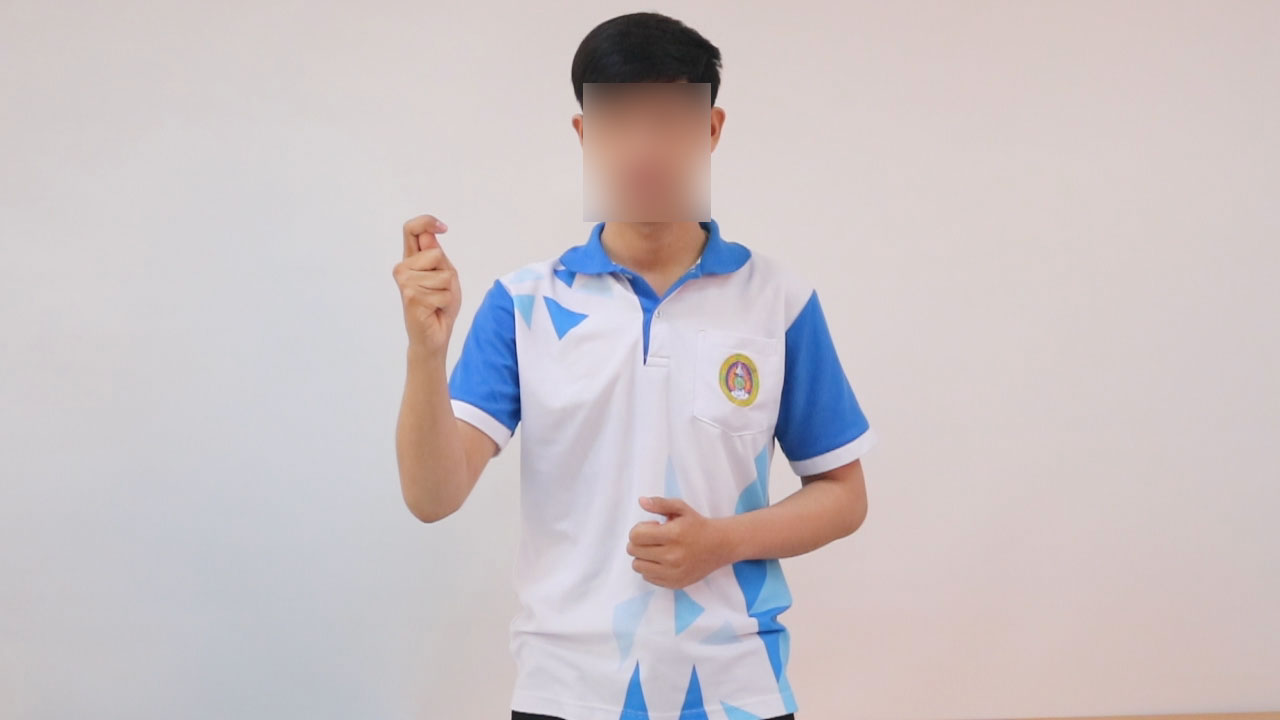or: (385, 207, 469, 370)
